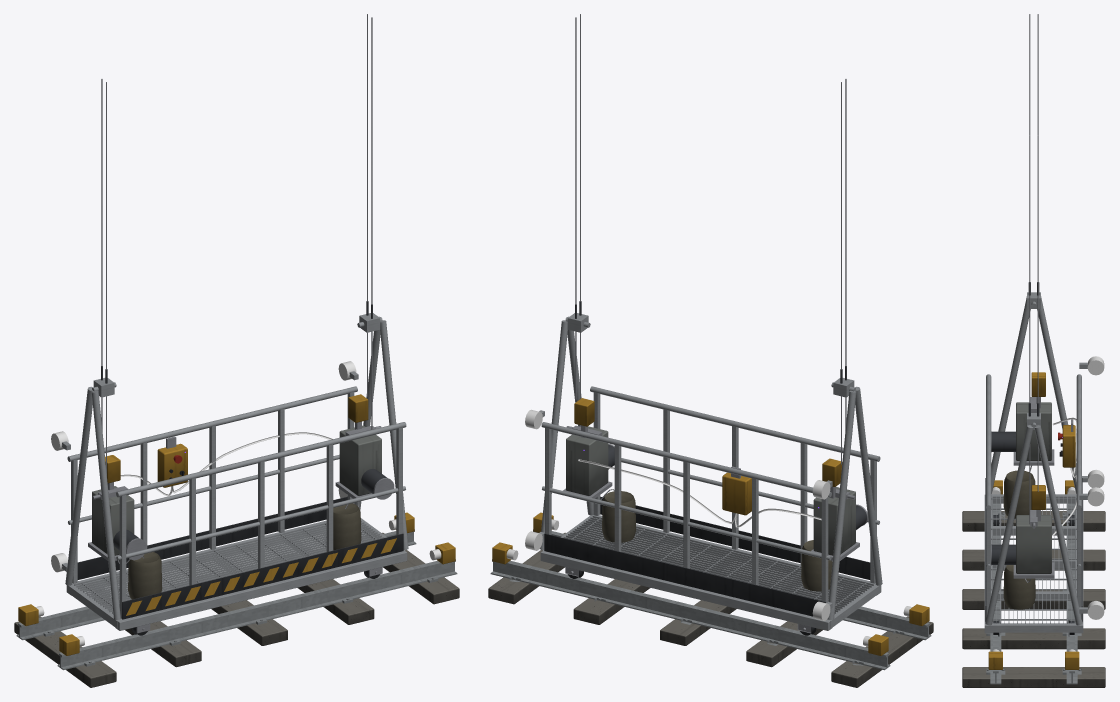
File: bmu_cradle.glb
3 renders of one model, left to right at view 1: azimuth 30°, elevation 25°; view 2: azimuth 150°, elevation 25°; view 3: azimuth 270°, elevation 25°, orthographic. The views are drawn at different scales.
Parts seen in each view (by area): view 1: part_deck_LOD0, part_track_LOD0, part_guard_f_LOD0, part_guard_b_LOD0, part_hoist_r_LOD0, part_hoist_l_LOD0, part_controls_LOD0, part_bag_l_LOD0, part_bag_r_LOD0, part_ropes_r_LOD0, part_ropes_l_LOD0; view 2: part_deck_LOD0, part_track_LOD0, part_guard_b_LOD0, part_guard_f_LOD0, part_hoist_r_LOD0, part_hoist_l_LOD0, part_controls_LOD0, part_bag_r_LOD0, part_ropes_r_LOD0, part_ropes_l_LOD0, part_bag_l_LOD0; view 3: part_deck_LOD0, part_track_LOD0, part_hoist_r_LOD0, part_hoist_l_LOD0, part_guard_f_LOD0, part_guard_b_LOD0, part_ropes_r_LOD0, part_bag_r_LOD0, part_bag_l_LOD0, part_controls_LOD0, part_ropes_l_LOD0.
Part boxes in pixels (x1,y1,x2,y2): part_deck_LOD0: (51,313,408,635); part_track_LOD0: (14,512,459,687); part_guard_f_LOD0: (116,422,406,619); part_guard_b_LOD0: (67,386,357,583); part_hoist_r_LOD0: (335,394,394,499); part_hoist_l_LOD0: (88,455,146,560); part_controls_LOD0: (120,432,332,496); part_bag_l_LOD0: (118,552,162,599); part_bag_r_LOD0: (333,501,361,550); part_ropes_r_LOD0: (366,14,372,429); part_ropes_l_LOD0: (101,79,107,474); part_deck_LOD0: (525,313,882,635); part_track_LOD0: (488,512,933,687); part_guard_b_LOD0: (541,422,831,616); part_guard_f_LOD0: (590,386,880,583); part_hoist_r_LOD0: (563,398,614,498); part_hoist_l_LOD0: (811,458,868,560); part_controls_LOD0: (578,459,821,527); part_bag_r_LOD0: (600,489,636,542); part_ropes_r_LOD0: (575,14,581,426); part_ropes_l_LOD0: (840,79,846,464); part_bag_l_LOD0: (801,540,832,591); part_deck_LOD0: (984,292,1104,636); part_track_LOD0: (962,480,1105,687); part_hoist_r_LOD0: (991,485,1054,578); part_hoist_l_LOD0: (991,372,1054,465); part_guard_f_LOD0: (985,374,991,621); part_guard_b_LOD0: (1076,374,1082,621); part_ropes_r_LOD0: (1028,135,1039,524); part_bag_r_LOD0: (1003,565,1035,609); part_bag_l_LOD0: (1003,465,1035,518); part_controls_LOD0: (1052,417,1076,535); part_ropes_l_LOD0: (1028,14,1039,295).
Size of what is drawn, in the model's own units: 3.56 by 4.9 by 1.2.
12 materials, 11 textured.
